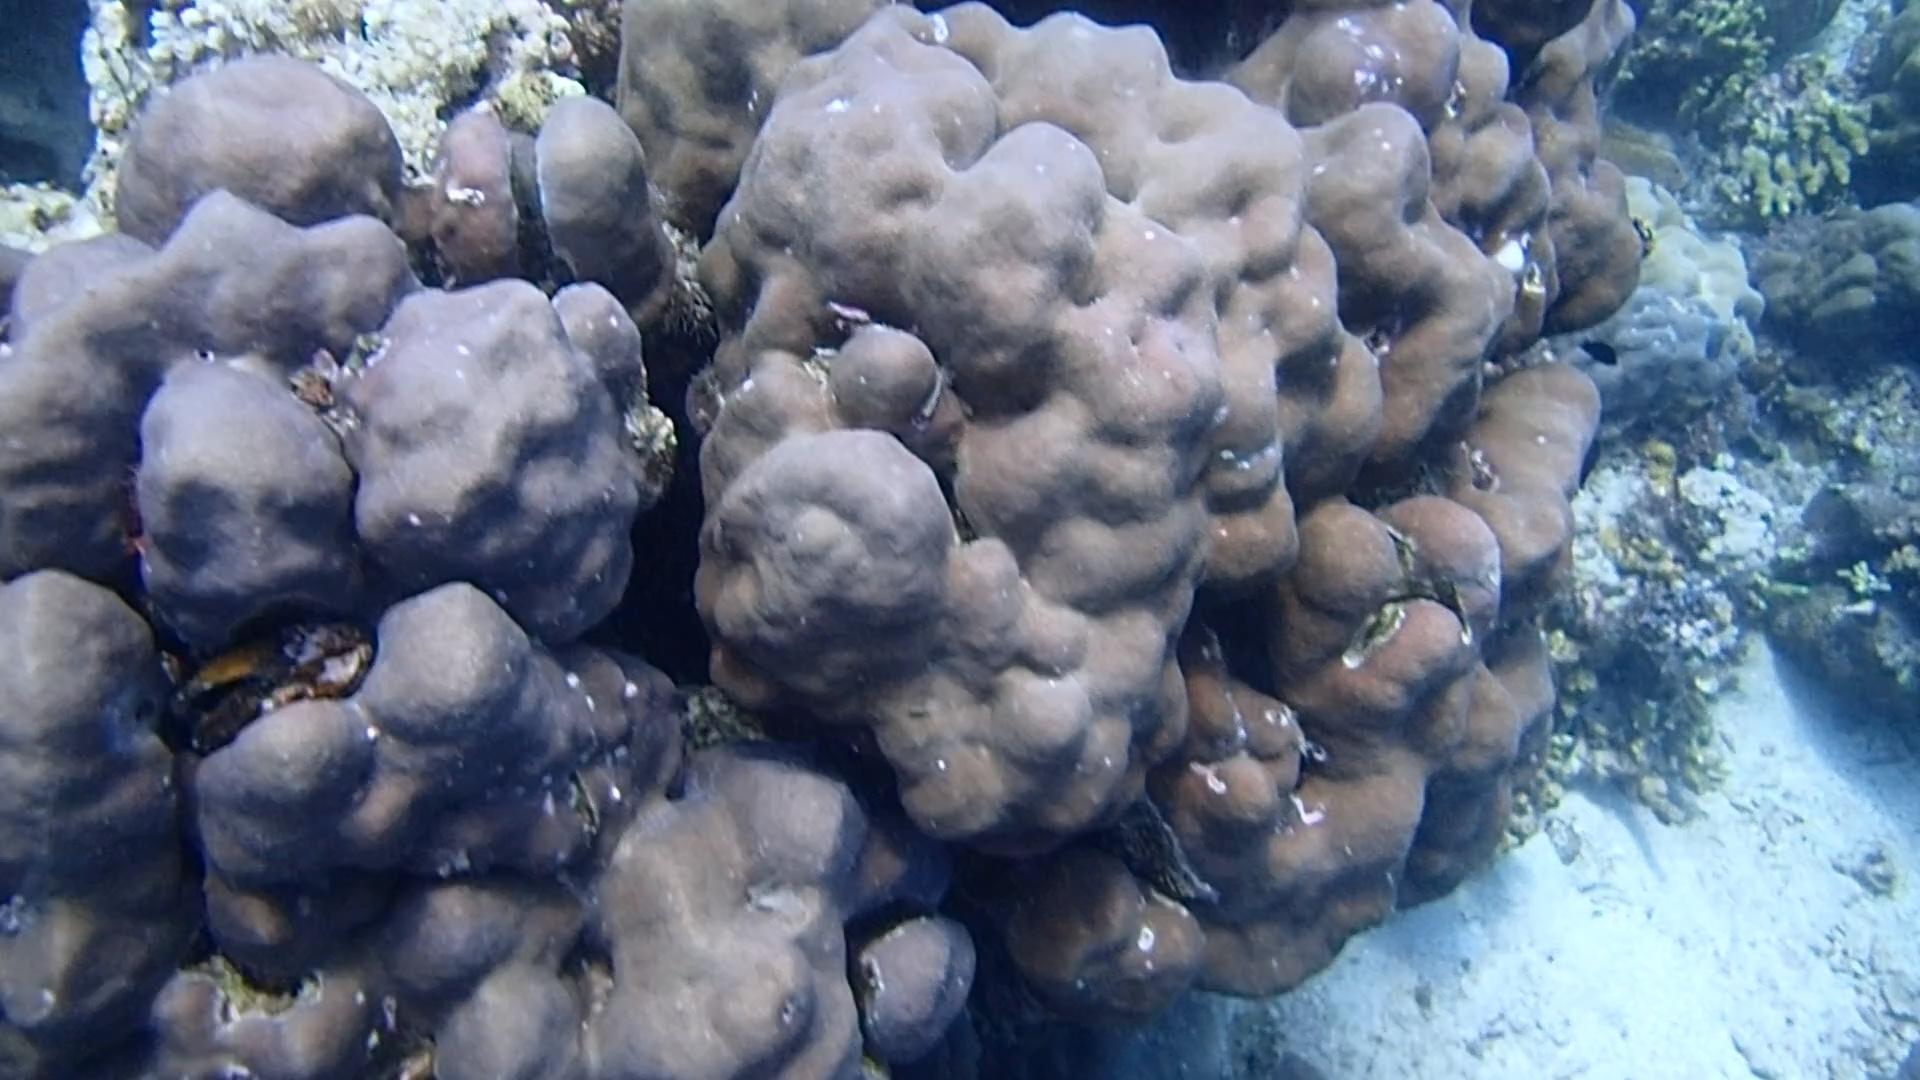Dark Fish: (1567, 328, 1625, 376)
